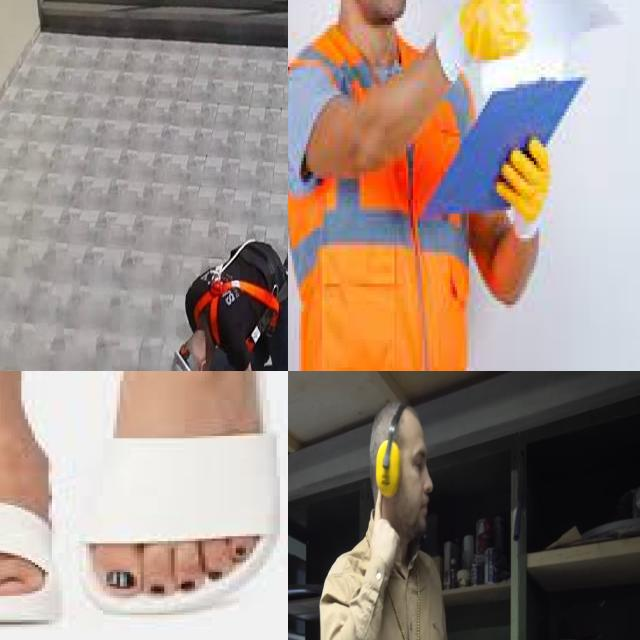Ear-protection: (370, 397, 433, 539)
Harness: (193, 281, 279, 346)
No_Glasses: (407, 436, 431, 483)
Sandals: (88, 371, 282, 616), (0, 384, 58, 627)
face_nomask: (353, 0, 407, 25)
hand_glove: (436, 0, 529, 82), (496, 137, 550, 238)
